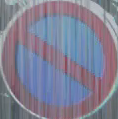No waiting: (7, 2, 111, 114)
